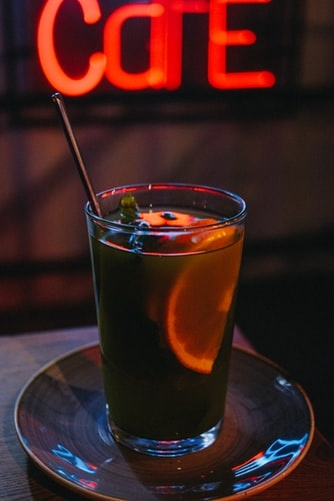whiskey: (74, 192, 248, 434)
